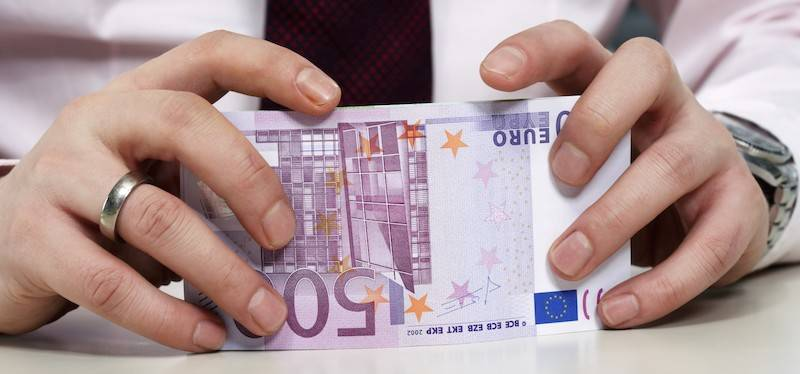billete: (174, 92, 636, 355)
